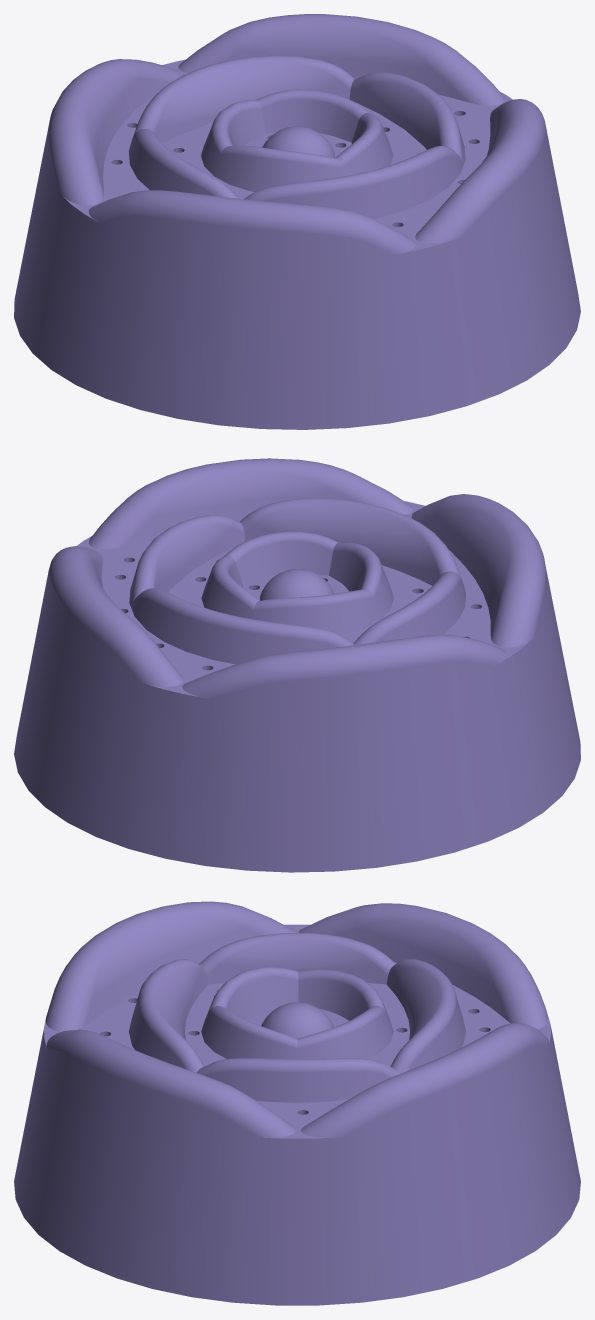
The model's file is choc.glb.
3 renders of one model, top to bottom at view 1: azimuth 30°, elevation 25°; view 2: azimuth 150°, elevation 25°; view 3: azimuth 270°, elevation 25°, orthographic.
Parts seen in each view (by area): view 1: Chocolate flower; view 2: Chocolate flower; view 3: Chocolate flower.
Part boxes in pixels (bbox=[...]): Chocolate flower: bbox=[14, 14, 580, 429]; Chocolate flower: bbox=[14, 458, 580, 872]; Chocolate flower: bbox=[14, 901, 580, 1305].
Size of the model in its own units: 0.9993 by 0.3914 by 1.
